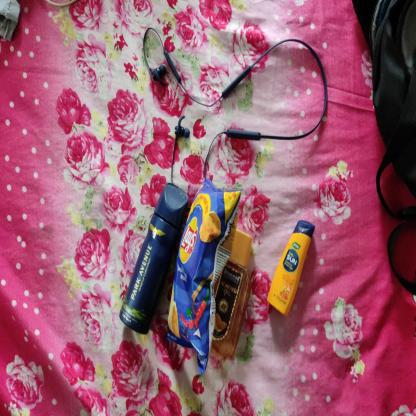indian_magic_masala: (167, 180, 238, 372)
